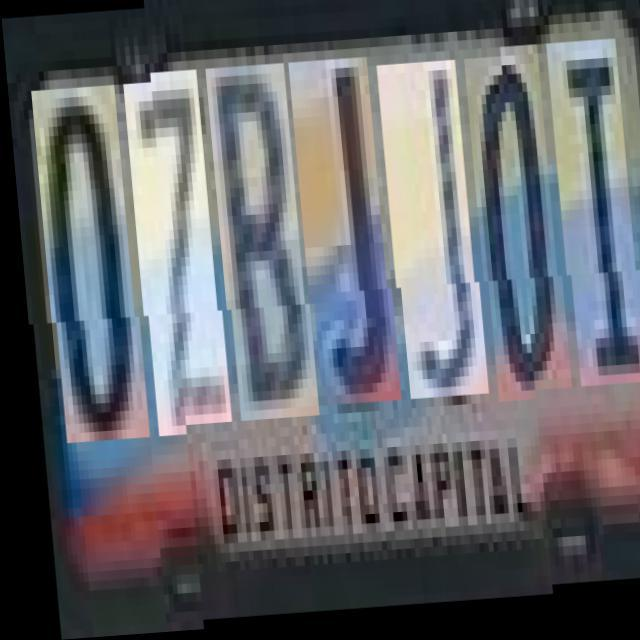B: (208, 67, 311, 424)
I: (550, 57, 639, 405)
J: (292, 62, 394, 410), (379, 66, 481, 405)
O: (33, 77, 141, 434), (468, 62, 564, 409)
Z: (125, 72, 224, 429)
